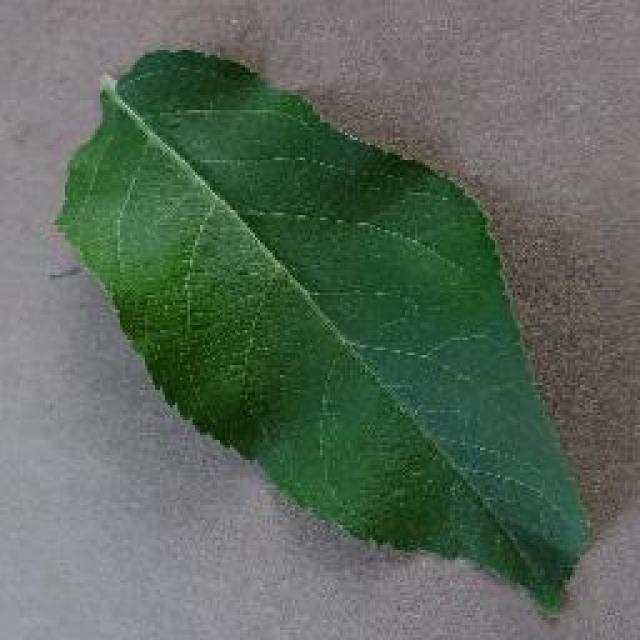apple healthy: (53, 42, 595, 620)
